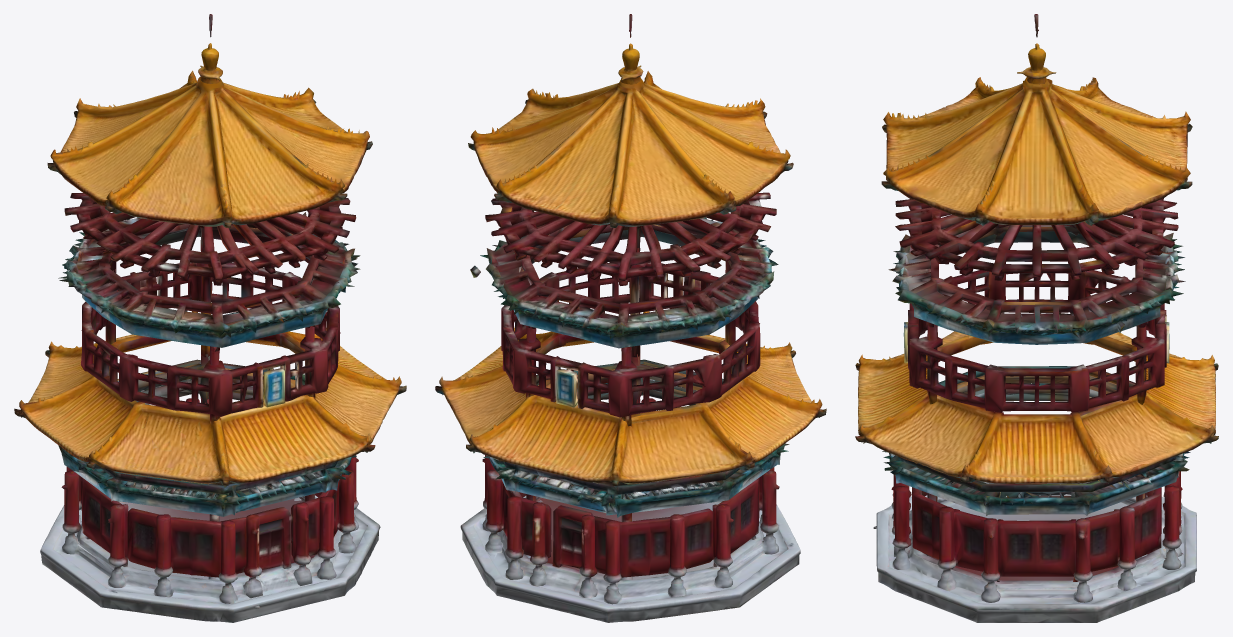
3 renders of one model, left to right at view 1: azimuth 30°, elevation 25°; view 2: azimuth 150°, elevation 25°; view 3: azimuth 270°, elevation 25°, orthographic.
Visible parts, largest first — view 1: part_0, part_7, part_1, part_4, part_3, part_2, part_8, part_5, part_6; view 2: part_0, part_7, part_1, part_4, part_3, part_2, part_8, part_5, part_6; view 3: part_0, part_7, part_1, part_2, part_4, part_3, part_8, part_5, part_6.
Part boxes in pixels (<box>): part_0: <box>47,70,372,227</box>; part_7: <box>14,234,406,487</box>; part_1: <box>61,397,358,608</box>; part_4: <box>58,212,360,494</box>; part_3: <box>81,248,340,427</box>; part_2: <box>40,495,380,622</box>; part_8: <box>64,193,356,285</box>; part_5: <box>58,72,356,516</box>; part_6: <box>15,14,222,418</box>; part_0: <box>468,71,793,227</box>; part_7: <box>435,246,826,488</box>; part_1: <box>482,398,779,604</box>; part_4: <box>470,217,778,501</box>; part_3: <box>501,248,760,426</box>; part_2: <box>460,485,800,622</box>; part_8: <box>485,192,776,285</box>; part_5: <box>483,75,789,517</box>; part_6: <box>618,14,643,84</box>; part_0: <box>881,77,1192,225</box>; part_7: <box>855,331,1218,484</box>; part_1: <box>873,411,1183,602</box>; part_2: <box>876,482,1196,622</box>; part_4: <box>888,224,1185,344</box>; part_3: <box>903,270,1169,412</box>; part_8: <box>895,198,1178,280</box>; part_5: <box>882,366,1190,515</box>; part_6: <box>1017,14,1056,84</box>.
Size of the model in its own units: 0.6389 by 1.03 by 0.6266.
Materials: 1 (1 with a texture image).
